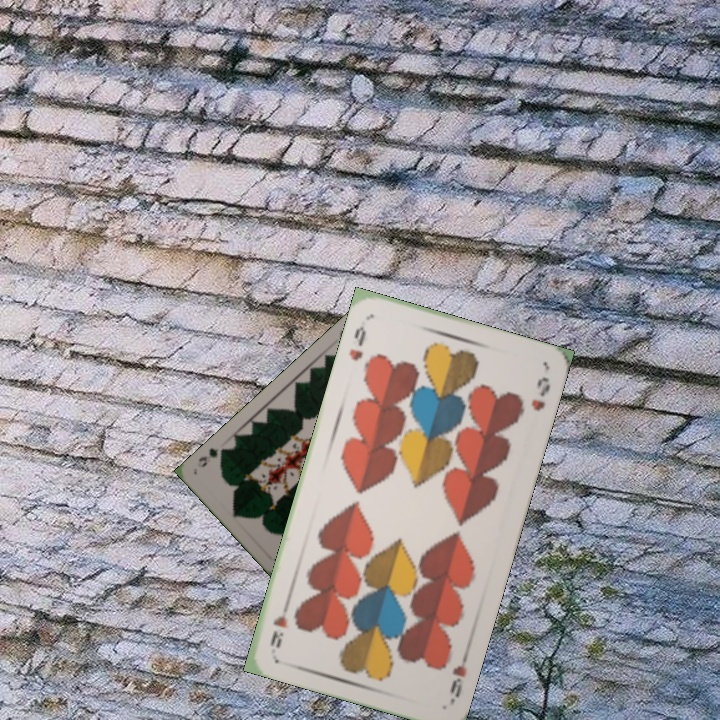H9: (446, 647, 471, 705), (345, 321, 369, 364)
